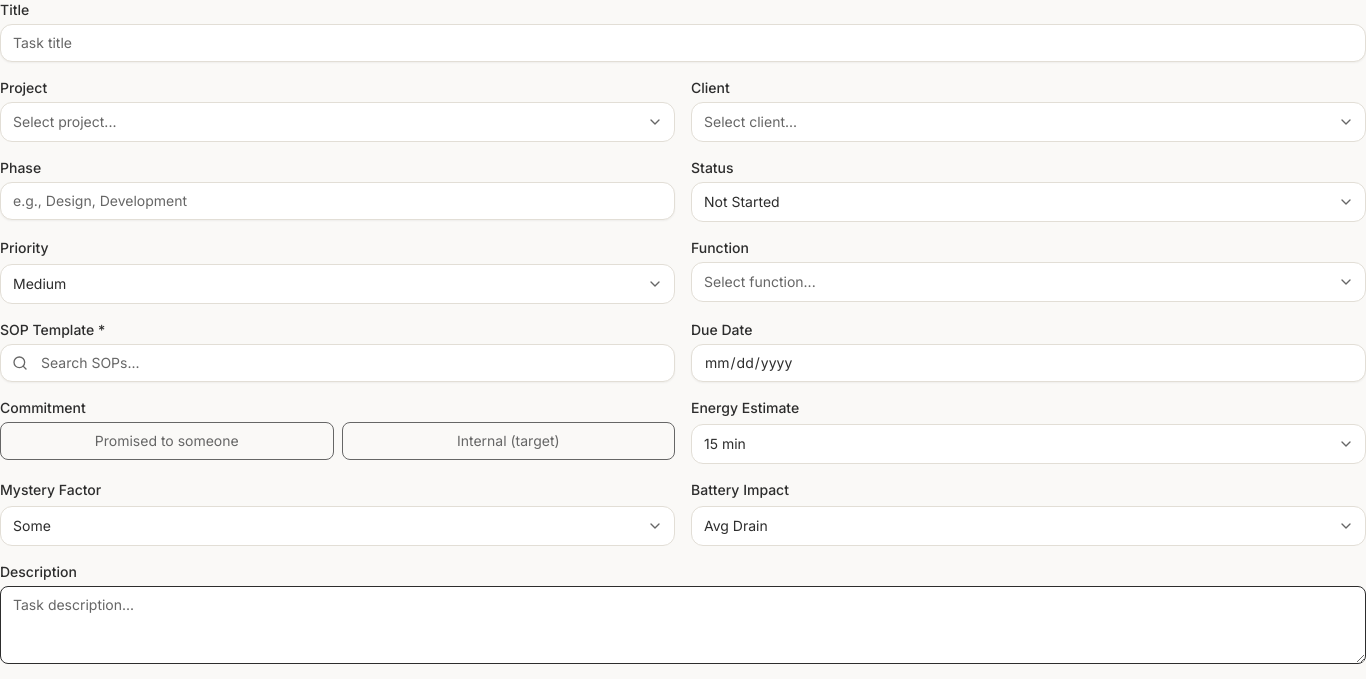
Scenario: TaskForm › SOP selection populates form fields › shows SOP preview after selection
Focus the field with placeholder "Search SOPs..." at (338,363), box [0,344,675,382]
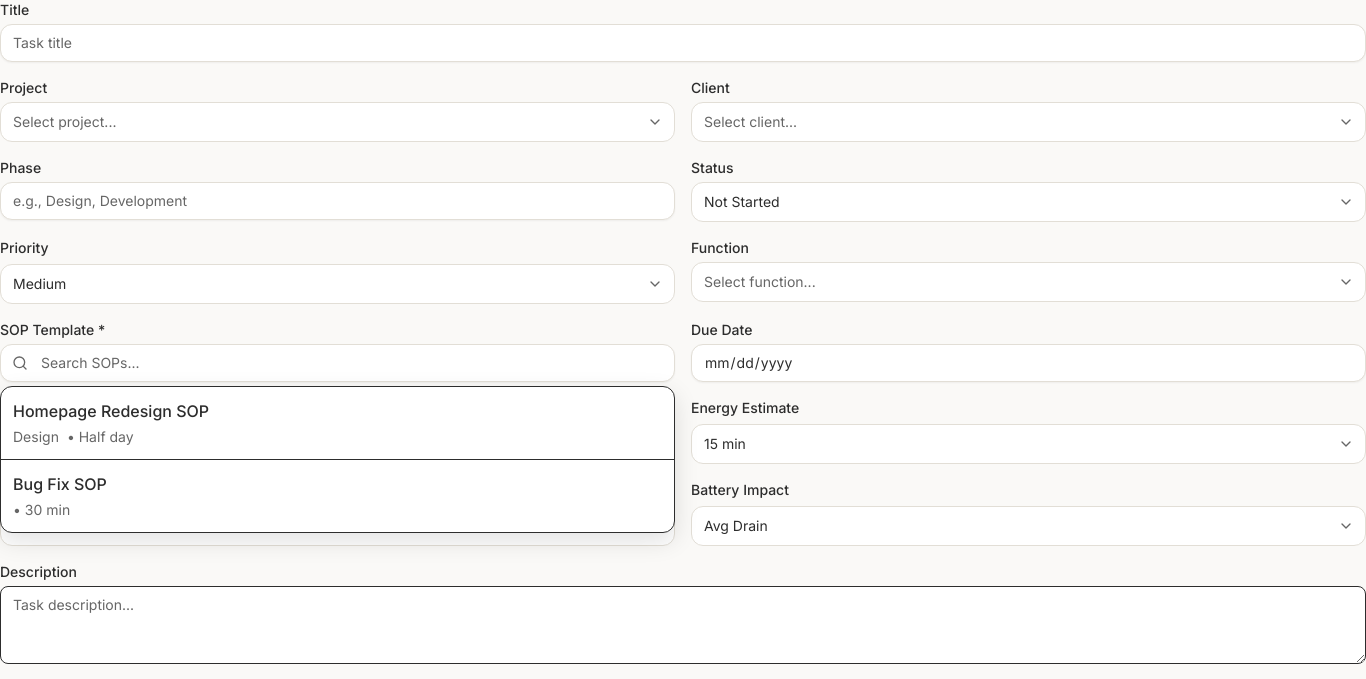
expect the text "Homepage Redesign SOP" is shown: met
Click the text "Homepage Redesign SOP" at (111,411), box [13,401,209,421]
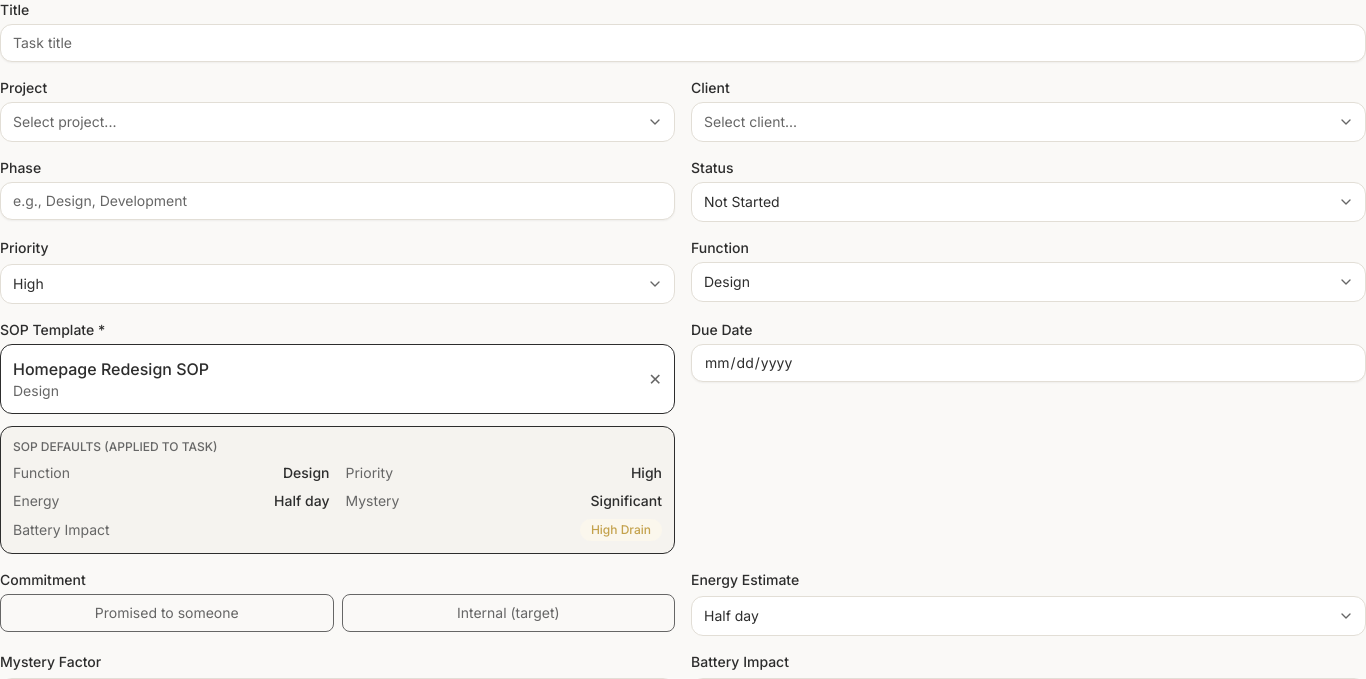
expect the text "SOP Defaults (Applied to Task)" is shown: met, box [13,439,217,454]
